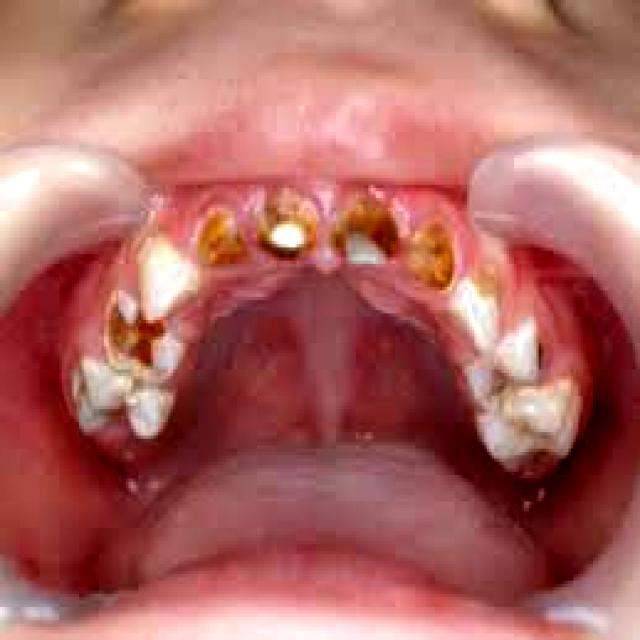cariess: (198, 205, 452, 287), (106, 304, 161, 363)
